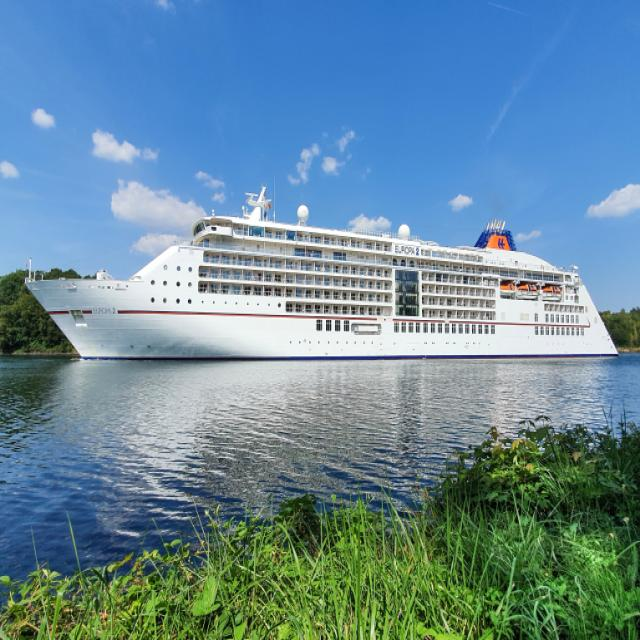cruises: (24, 186, 621, 368)
